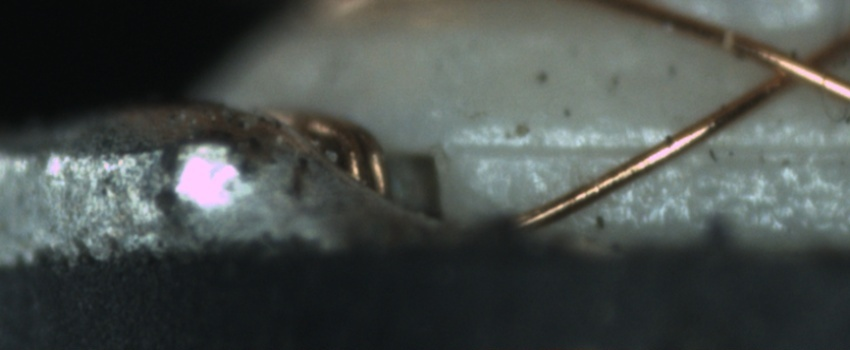CL: (746, 36, 842, 102)
DL: (451, 117, 850, 178)
TE: (262, 97, 400, 203)
